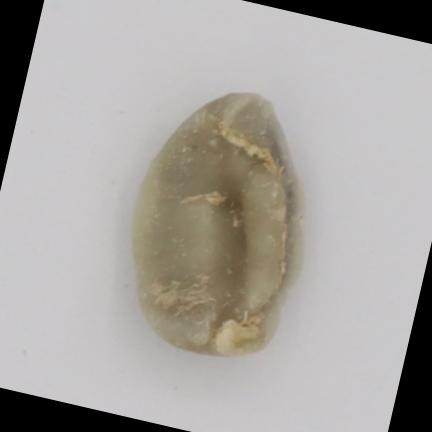cut: (133, 93, 303, 355)
